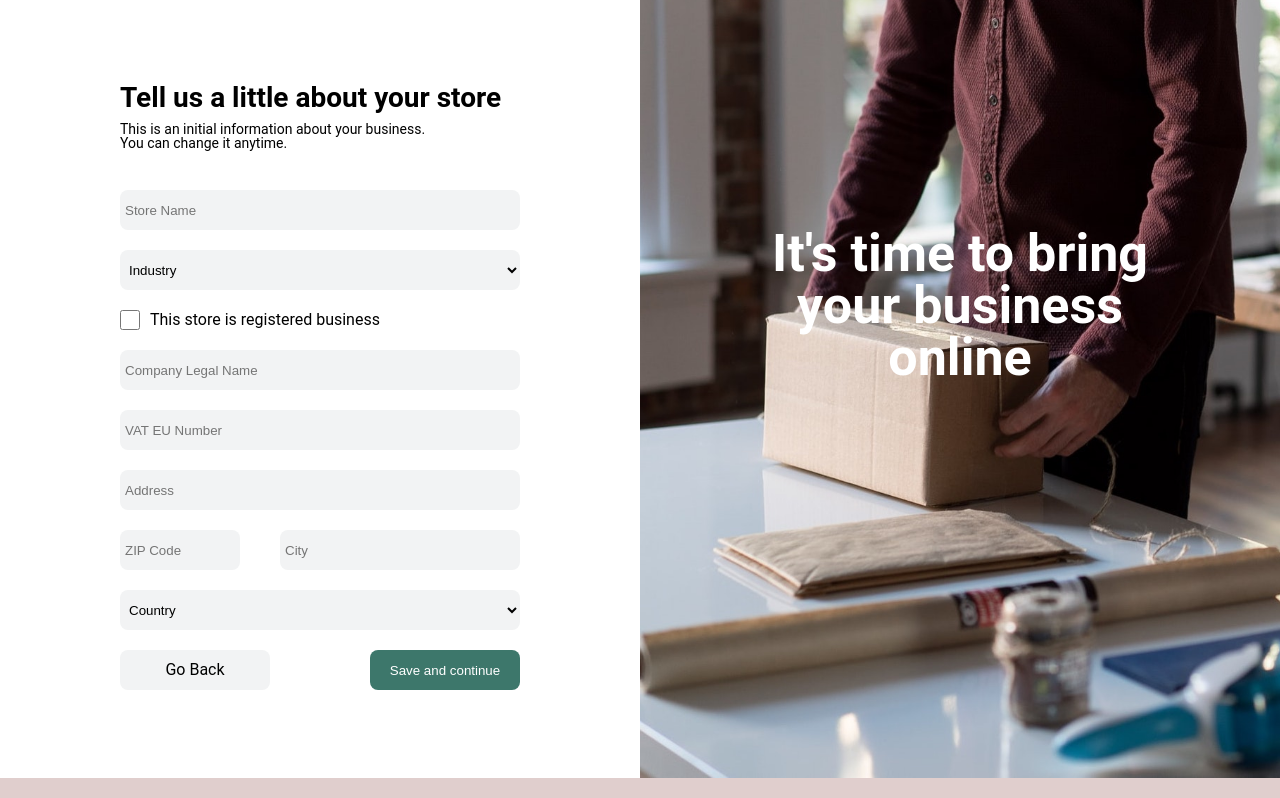
Registration Form tests › should show 7 errors on submitting empty form
(page scrolled)
What coordinates should you click on to do the following:
click the button with test id "submit-button"
I would click on:
 (445, 670)
Its box is [370,650,520,690].
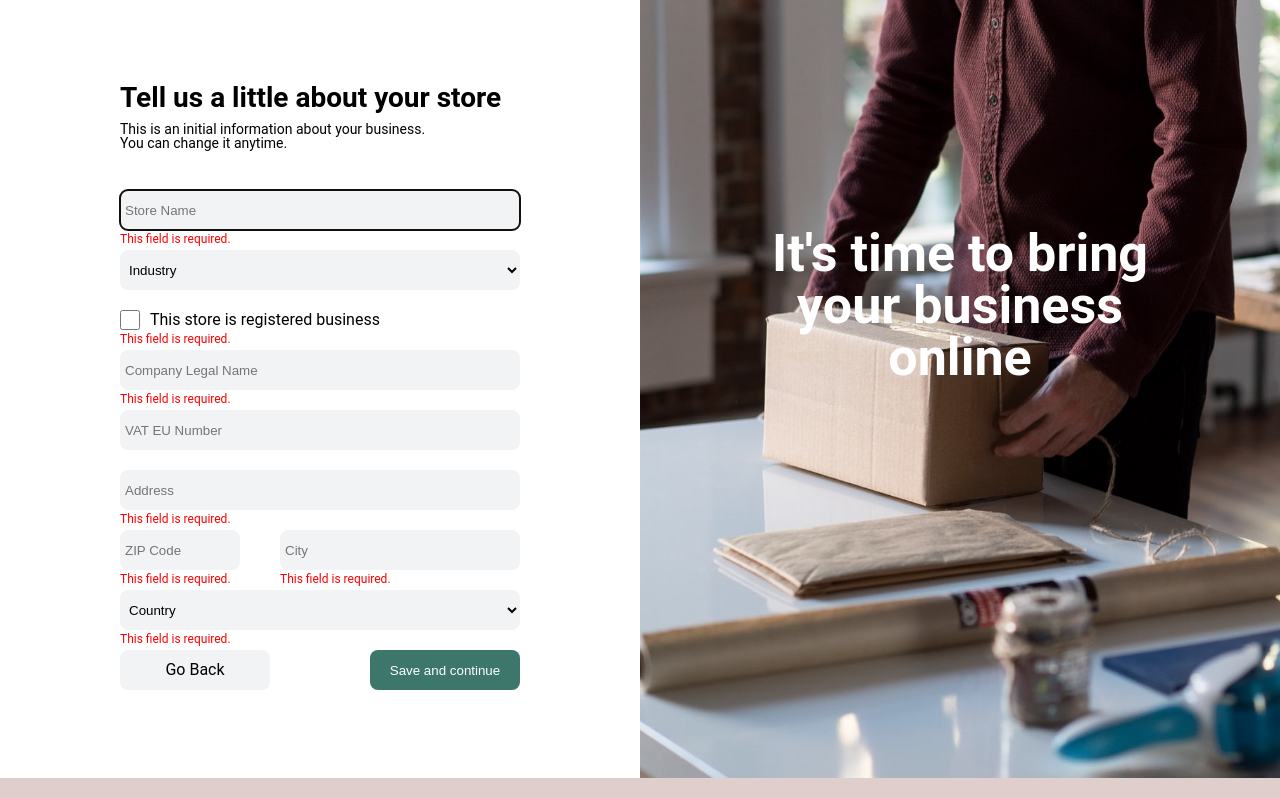
Expected: the 1st message "This field is required." is shown, [120,233,230,245]
Expected: the text "This field is required." is shown, [120,333,230,345]
Expected: the 2nd message "This field is required." is shown, [120,393,230,405]
